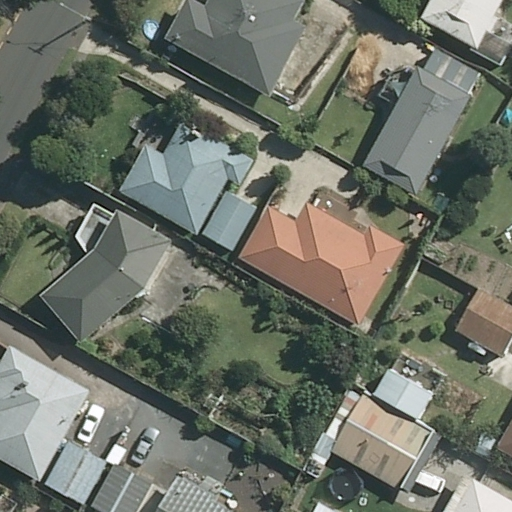DT: (60, 4, 91, 23)
